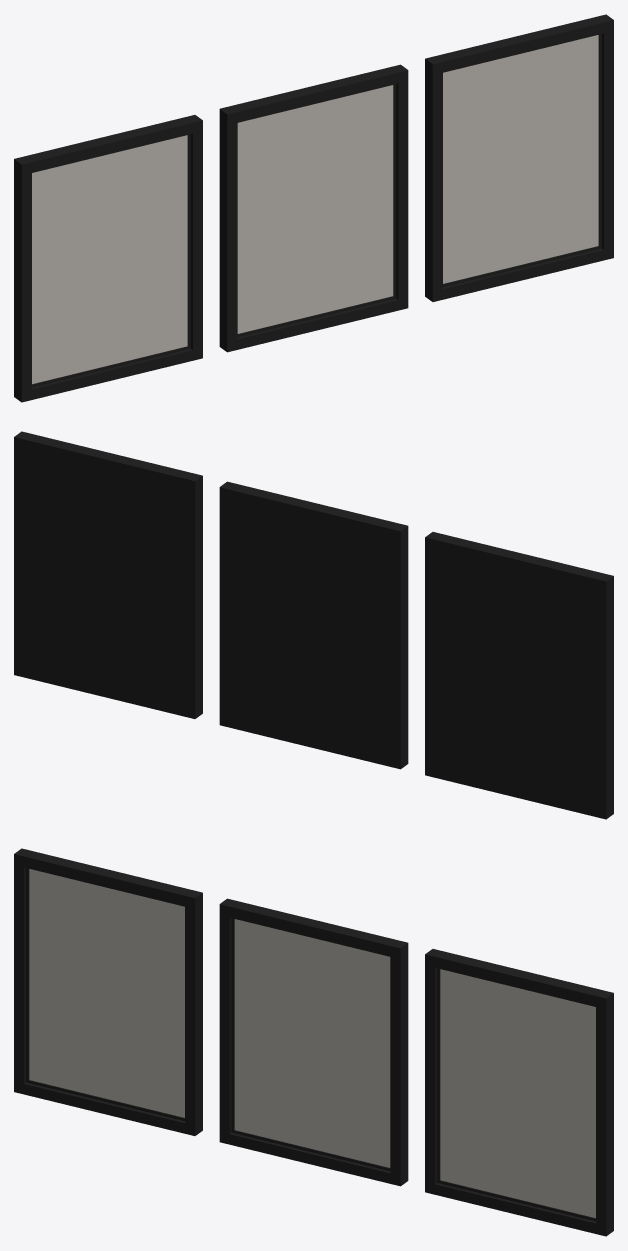
The model's file is marco-3.glb.
3 renders of one model, top to bottom at view 1: azimuth 30°, elevation 25°; view 2: azimuth 150°, elevation 25°; view 3: azimuth 330°, elevation 25°, orthographic.
Visible parts, largest first — view 1: marco, obra2, obra3, obra1; view 2: marco; view 3: marco, obra2, obra1, obra3.
Part boxes in pixels (x1,y1,x2,y2): marco: [14, 14, 613, 402]; obra2: [237, 85, 393, 333]; obra3: [443, 35, 598, 283]; obra1: [32, 135, 187, 384]; marco: [14, 431, 613, 819]; marco: [14, 848, 613, 1236]; obra2: [234, 919, 390, 1167]; obra1: [29, 869, 184, 1117]; obra3: [440, 969, 595, 1218].
Bounding box in the file's own units: 0.974 × 0.374 × 0.022.
Materials: 4 (3 with a texture image).
